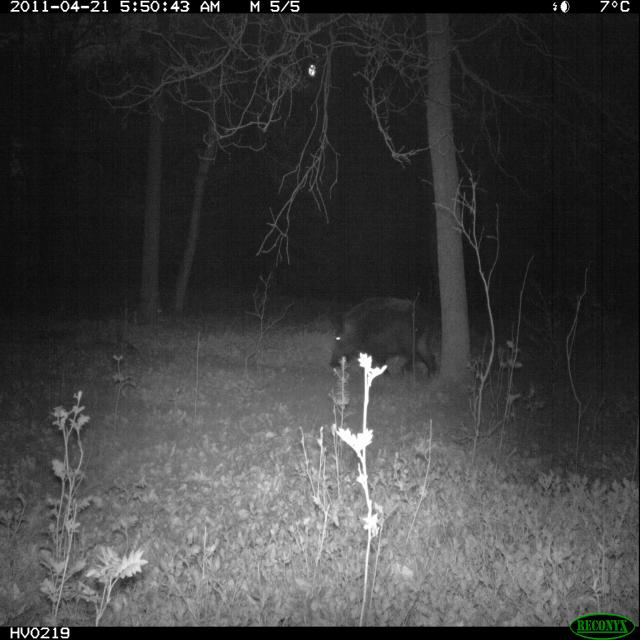boar: (316, 274, 444, 408)
